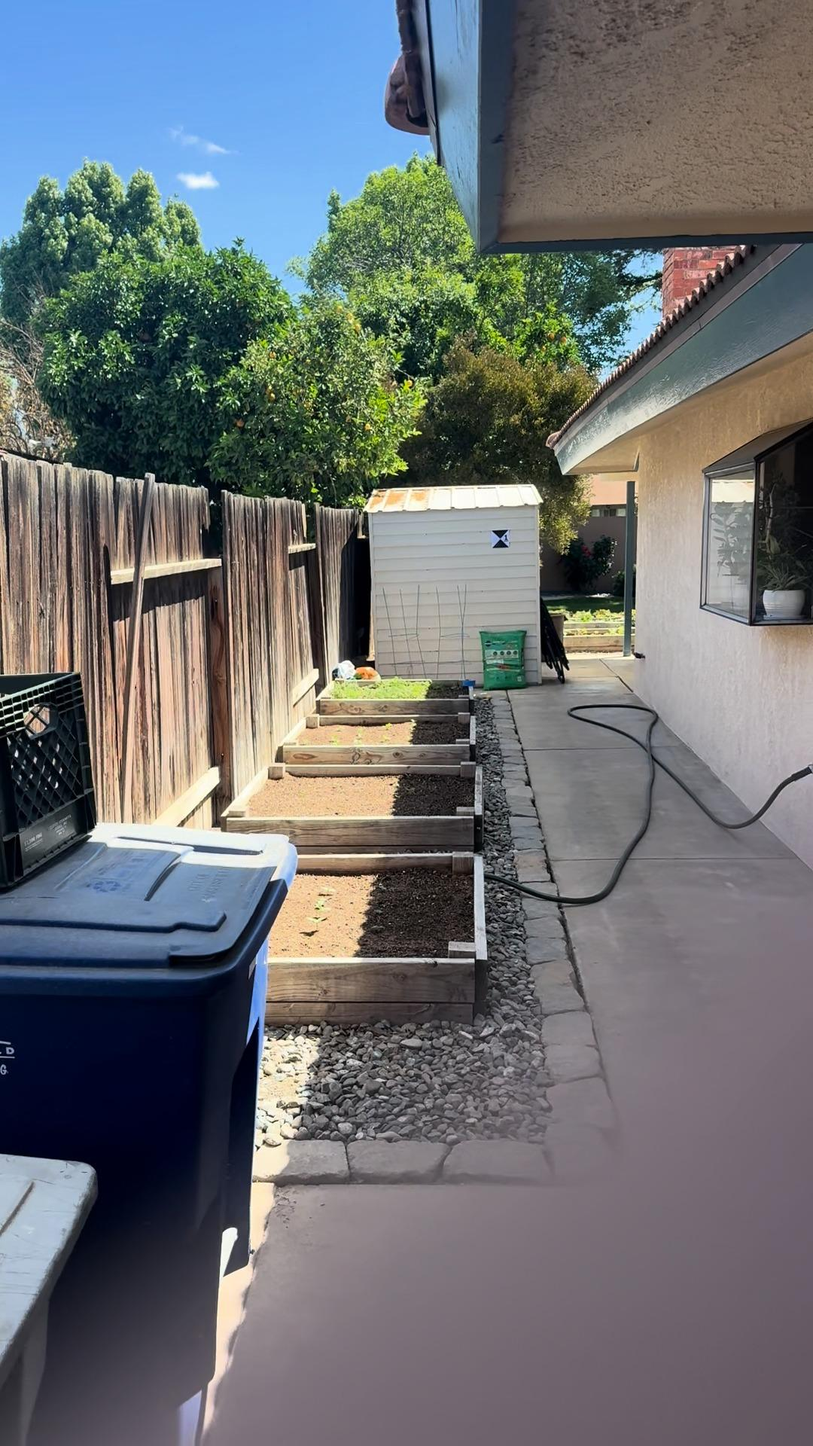target1: (490, 527, 516, 551)
